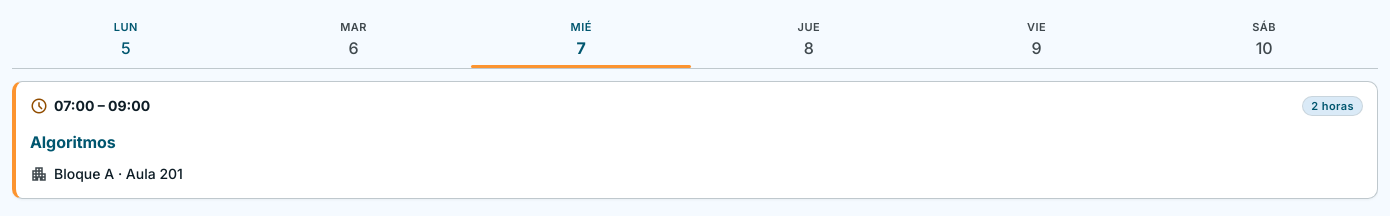
Test: DayAgenda › al elegir otro día cambian las tarjetas visibles
Click the tab "JUE 8". click: {"x": 809, "y": 40}
box: [695,12,923,68]
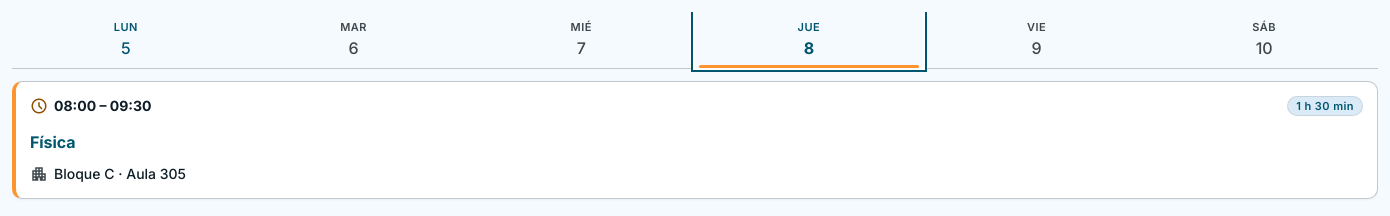
Expected: the button "Física" is shown, [30,120,1363,164]
Expected: the button "Algoritmos" is gone
Expected: the panel shows "1 h 30 min", [1296,99,1354,113]
